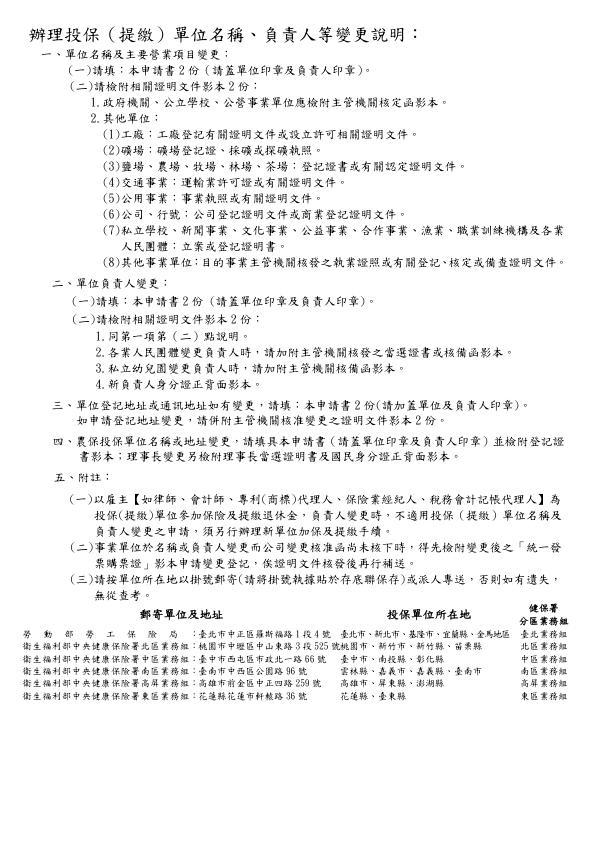text: (39, 48, 569, 271), (51, 469, 570, 601), (18, 601, 579, 706), (47, 275, 515, 391), (48, 396, 565, 467), (26, 23, 421, 44)
